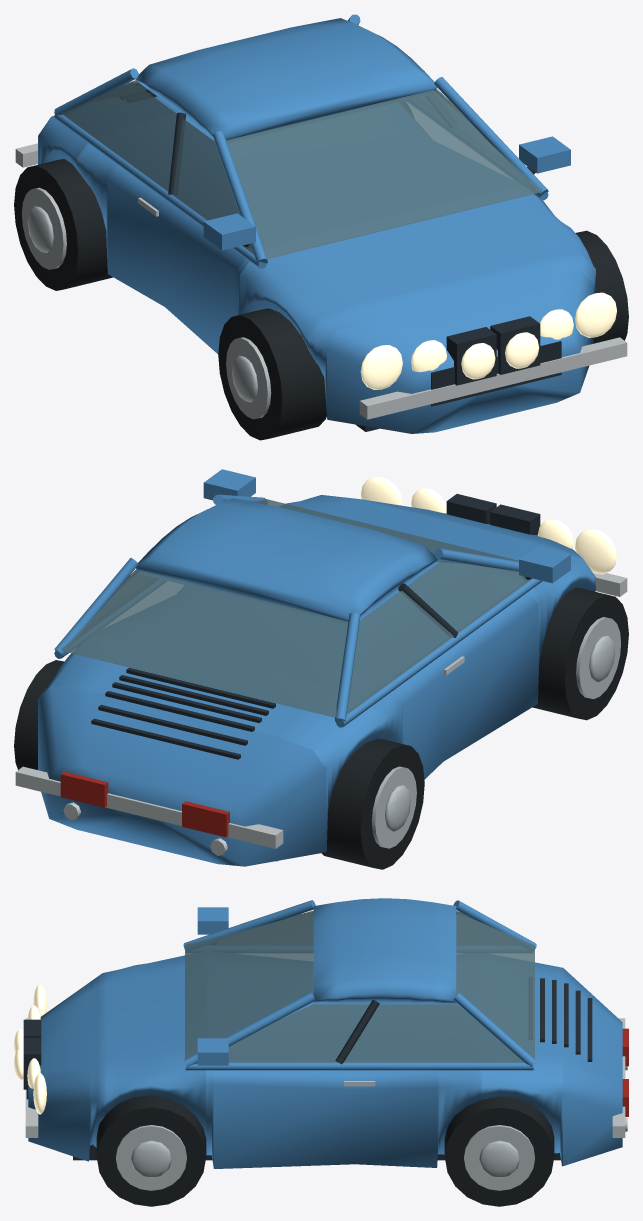
File: montane.glb
3 views of the same model, one above another, from view 1: azimuth 30°, elevation 25°; view 2: azimuth 150°, elevation 25°; view 3: azimuth 270°, elevation 25° (orthographic). The views are drawn at different scales.
Parts seen in each view (by area): view 1: exterior-paint, windows, tire-front-left, tire-rear-left, headlights, chrome, black-trim, rim-rear-left, rim-front-left, tire-front-right; view 2: exterior-paint, windows, black-trim, tire-rear-left, tire-front-left, chrome, headlights, rim-rear-left, rim-front-left, taillights, tire-rear-right; view 3: exterior-paint, windows, tire-front-right, tire-rear-right, rim-rear-right, rim-front-right, black-trim, headlights, chrome, taillights.
Boxes of the visible parts, x1,y1,x2,y2 form: exterior-paint: (38,14,595,433); windows: (61,80,541,258); tire-front-left: (218,308,326,440); tire-rear-left: (14,159,112,290); headlights: (360,292,616,389); chrome: (15,143,627,419); black-trim: (121,87,561,431); rim-rear-left: (22,187,66,269); rim-front-left: (226,337,271,419); tire-front-right: (575,230,628,343); exterior-paint: (38,469,595,866); windows: (61,499,532,717); black-trim: (91,494,540,861); tire-rear-left: (321,738,424,869); tire-front-left: (532,587,628,720); chrome: (15,573,627,855); headlights: (360,477,616,574); rim-rear-left: (371,766,416,848); rim-front-left: (576,617,621,699); taillights: (60,771,229,837); tire-rear-right: (14,660,63,769); exterior-paint: (28,898,622,1168); windows: (185,910,534,1062); tire-front-right: (96,1095,206,1206); tire-rear-right: (444,1096,554,1206); rim-rear-right: (464,1125,534,1190); rim-front-right: (116,1125,186,1190); black-trim: (23,978,592,1160); headlights: (14,984,46,1114); chrome: (25,1018,627,1137); taillights: (622,1028,628,1116).
Bounding box in the file's own units: 1.85 × 1.12 × 3.15.
